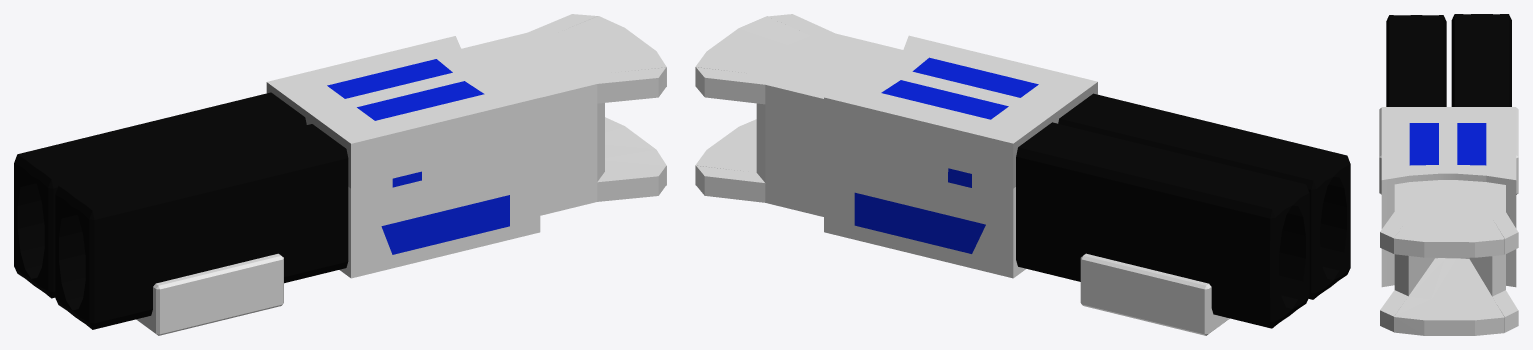
The model's file is armcannon.fbx.
3 views of the same model, side by side, from view 1: azimuth 30°, elevation 25°; view 2: azimuth 150°, elevation 25°; view 3: azimuth 270°, elevation 25° (orthographic). The views are drawn at different scales.
Visible parts, largest first — view 1: polySurface10, polySurface8, polySurface9, polySurface7, pCube9; view 2: polySurface10, polySurface7, polySurface9, polySurface8, pCube9; view 3: polySurface9, polySurface10, polySurface7, polySurface8, pCube9.
Boxes of the visible parts, bbox=[...] form: polySurface10: bbox=[266, 36, 540, 278]; polySurface8: bbox=[55, 124, 348, 329]; polySurface9: bbox=[461, 14, 666, 215]; polySurface7: bbox=[14, 92, 306, 298]; pCube9: bbox=[136, 253, 283, 335]; polySurface10: bbox=[824, 35, 1097, 278]; polySurface7: bbox=[1016, 122, 1309, 328]; polySurface9: bbox=[695, 14, 902, 216]; polySurface8: bbox=[1058, 93, 1350, 299]; pCube9: bbox=[1080, 253, 1229, 335]; polySurface9: bbox=[1380, 180, 1518, 335]; polySurface10: bbox=[1381, 107, 1516, 287]; polySurface7: bbox=[1451, 14, 1511, 106]; polySurface8: bbox=[1386, 15, 1446, 106]; pCube9: bbox=[1379, 108, 1518, 194].
Size of the model in its own units: 36.85 by 8.66 by 9.5.
